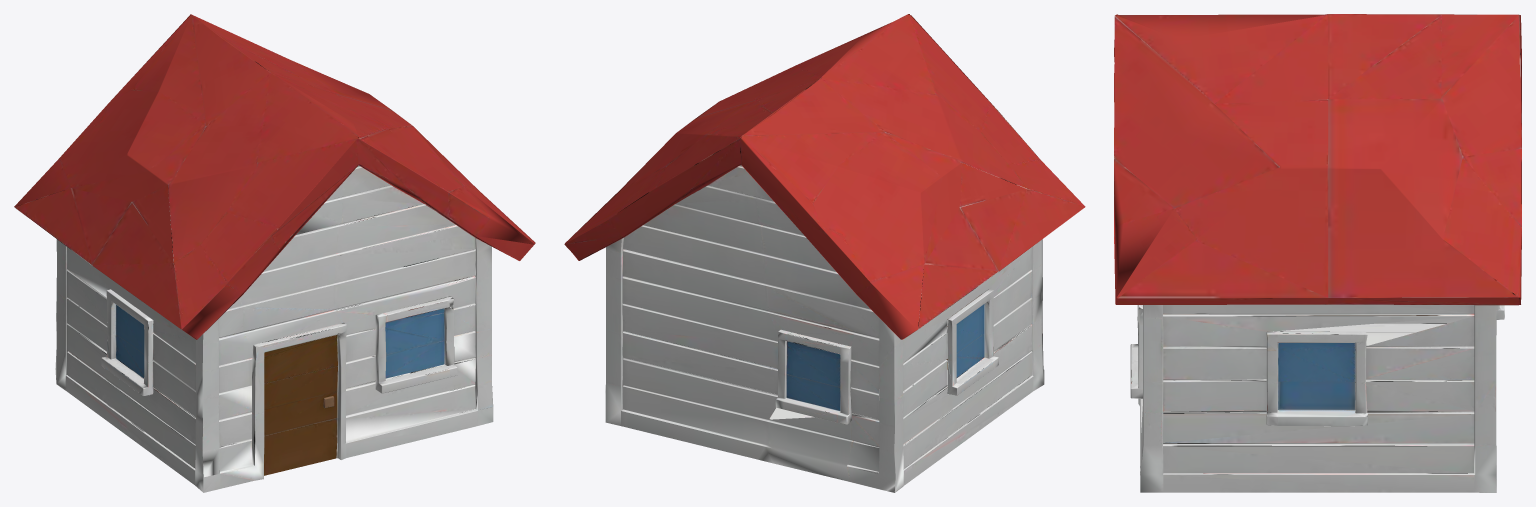
File: house.glb
3 views of the same model, side by side, from view 1: azimuth 30°, elevation 25°; view 2: azimuth 150°, elevation 25°; view 3: azimuth 270°, elevation 25° (orthographic). The views are drawn at different scales.
Visible parts, largest first — view 1: geometry_0; view 2: geometry_0; view 3: geometry_0.
Boxes of the visible parts, x1,y1,x2,y2 form: geometry_0: (14, 14, 535, 492); geometry_0: (564, 14, 1085, 492); geometry_0: (1114, 14, 1521, 492).
Size of the model in its own units: 0.9473 by 0.8345 by 0.7832.
Materials: 1 (1 with a texture image).
